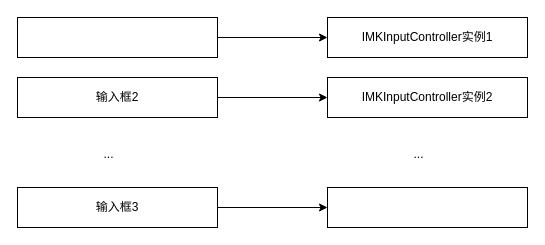
This 545x245 diagram has some shape labels left out. The shapes that lost their labels are listed below. From the top down, each one's centre as x and y in pixels, then its label:
the point at 117,37: 输入框1
the point at 427,207: IMKInputController实例3
